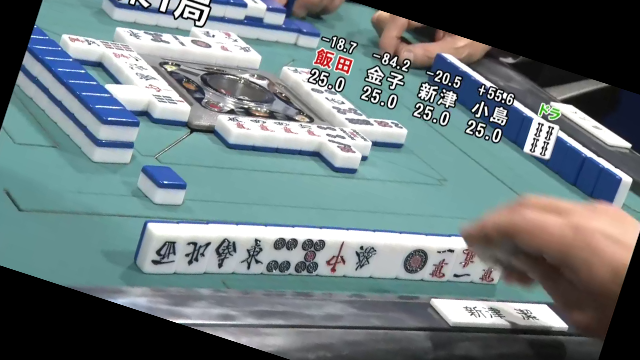Tehai: (130, 216, 505, 289)
